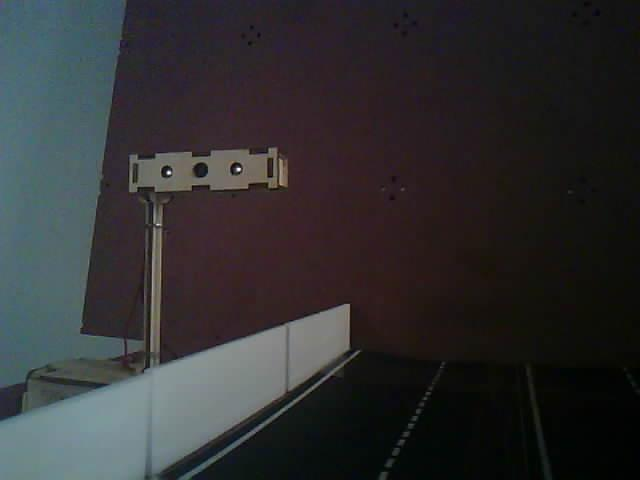no: (104, 144, 316, 381)
